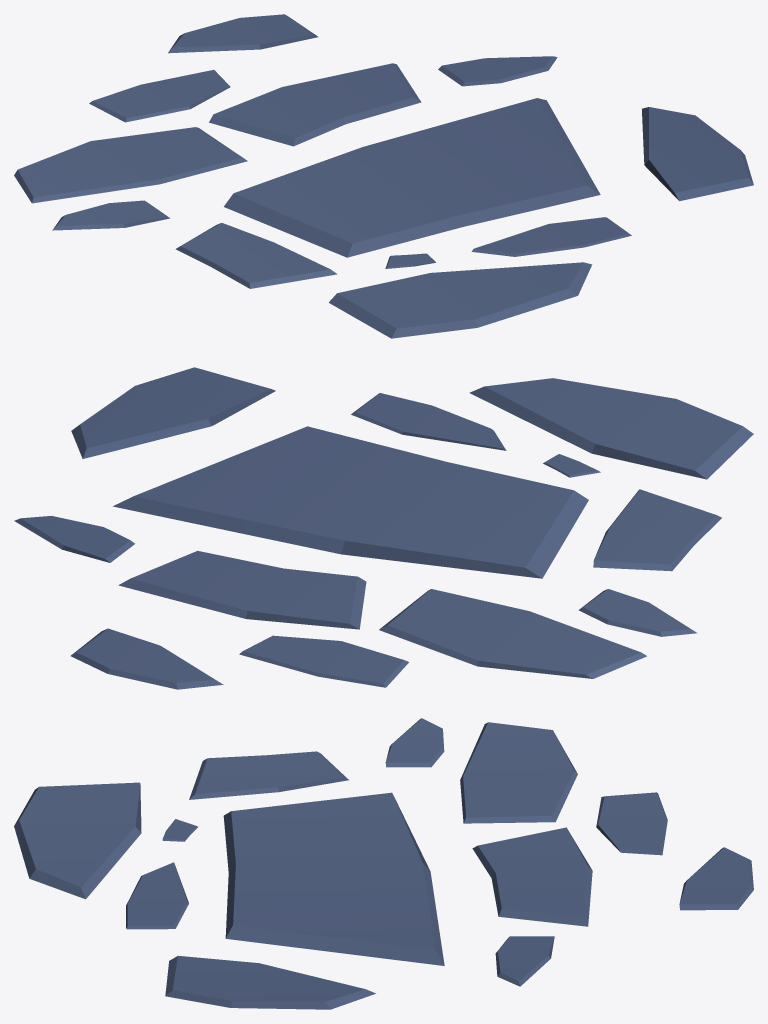
Rendered from FRock_Big2l.fbx.
The picture shows the model from 3 angles, top to bottom: view 1: azimuth 30°, elevation 25°; view 2: azimuth 150°, elevation 25°; view 3: azimuth 270°, elevation 25°; orthographic projection. The views are drawn at different scales.
Visible parts, largest first — view 1: rocks_big_2.001; view 2: rocks_big_2.001; view 3: rocks_big_2.001.
Boxes of the visible parts, bbox=[...] form: rocks_big_2.001: bbox=[14, 14, 753, 338]; rocks_big_2.001: bbox=[14, 367, 753, 689]; rocks_big_2.001: bbox=[14, 718, 753, 1009].
Bounding box in the file's own units: 736 × 10.76 × 792.
1 material, 1 textured.
